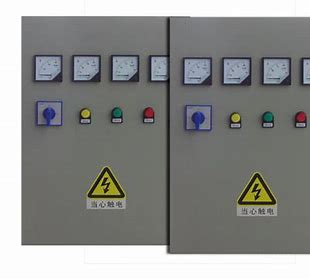pointer: (34, 55, 62, 82), (184, 57, 211, 84), (224, 57, 251, 84), (263, 57, 290, 84), (73, 55, 100, 81), (112, 55, 139, 80), (151, 54, 169, 80), (303, 58, 310, 85)
